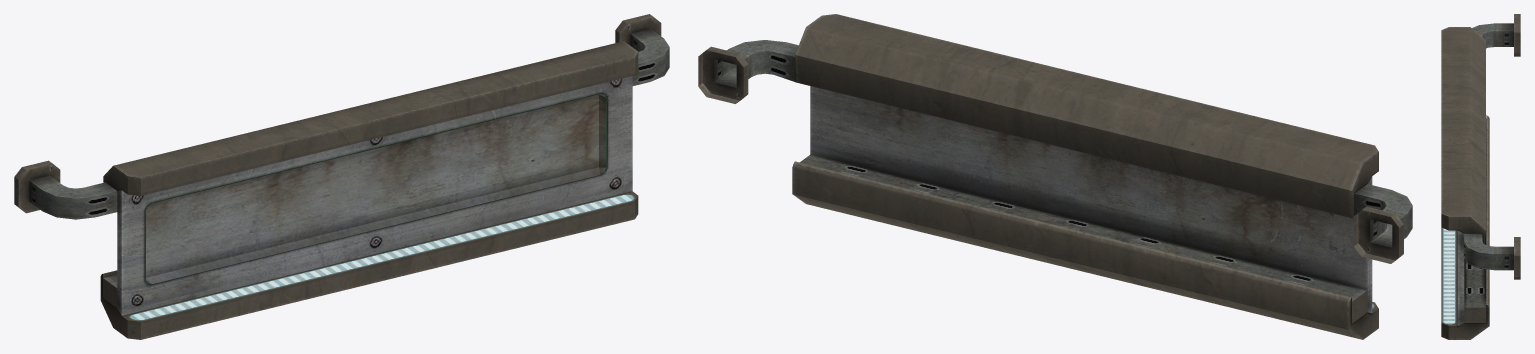
Rendered from sign_door_blank.dae.
3 renders of one model, left to right at view 1: azimuth 30°, elevation 25°; view 2: azimuth 150°, elevation 25°; view 3: azimuth 270°, elevation 25°, orthographic. The views are drawn at different scales.
Visible parts, largest first — view 1: polySurface1; view 2: polySurface1; view 3: polySurface1.
Part boxes in pixels (x1=…): polySurface1: x1=14, y1=14, x2=669, y2=339; polySurface1: x1=698, y1=14, x2=1412, y2=339; polySurface1: x1=1441, y1=14, x2=1520, y2=339.
Bounding box in the file's own units: 0.8806 × 0.2124 × 0.1238.
